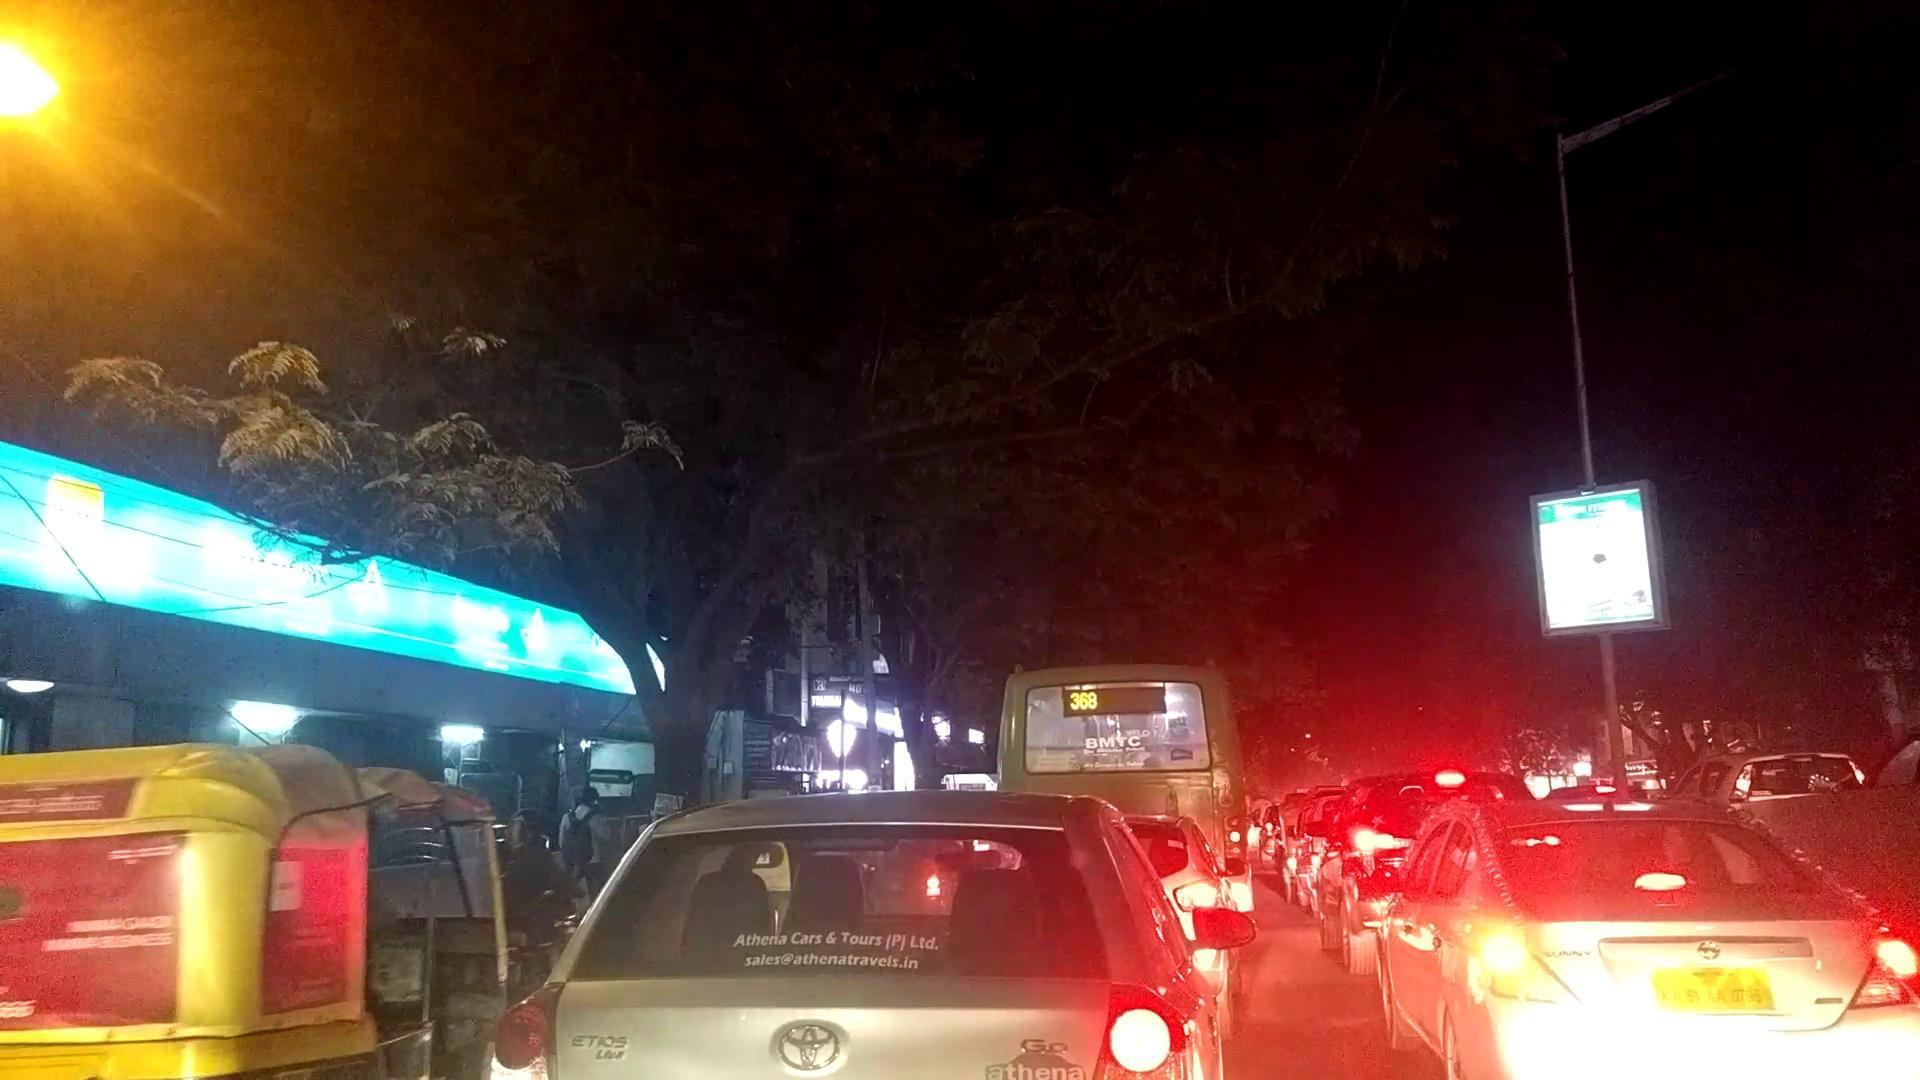on: (0, 3, 351, 386)
